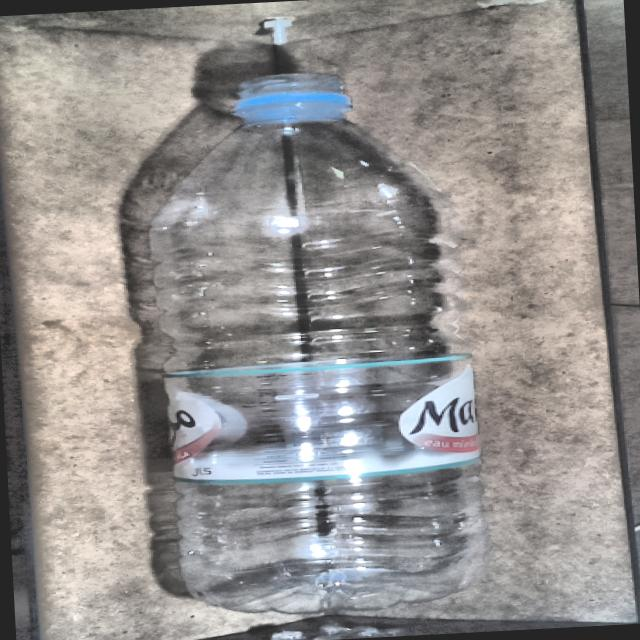plastic bottle: (150, 73, 489, 616)
